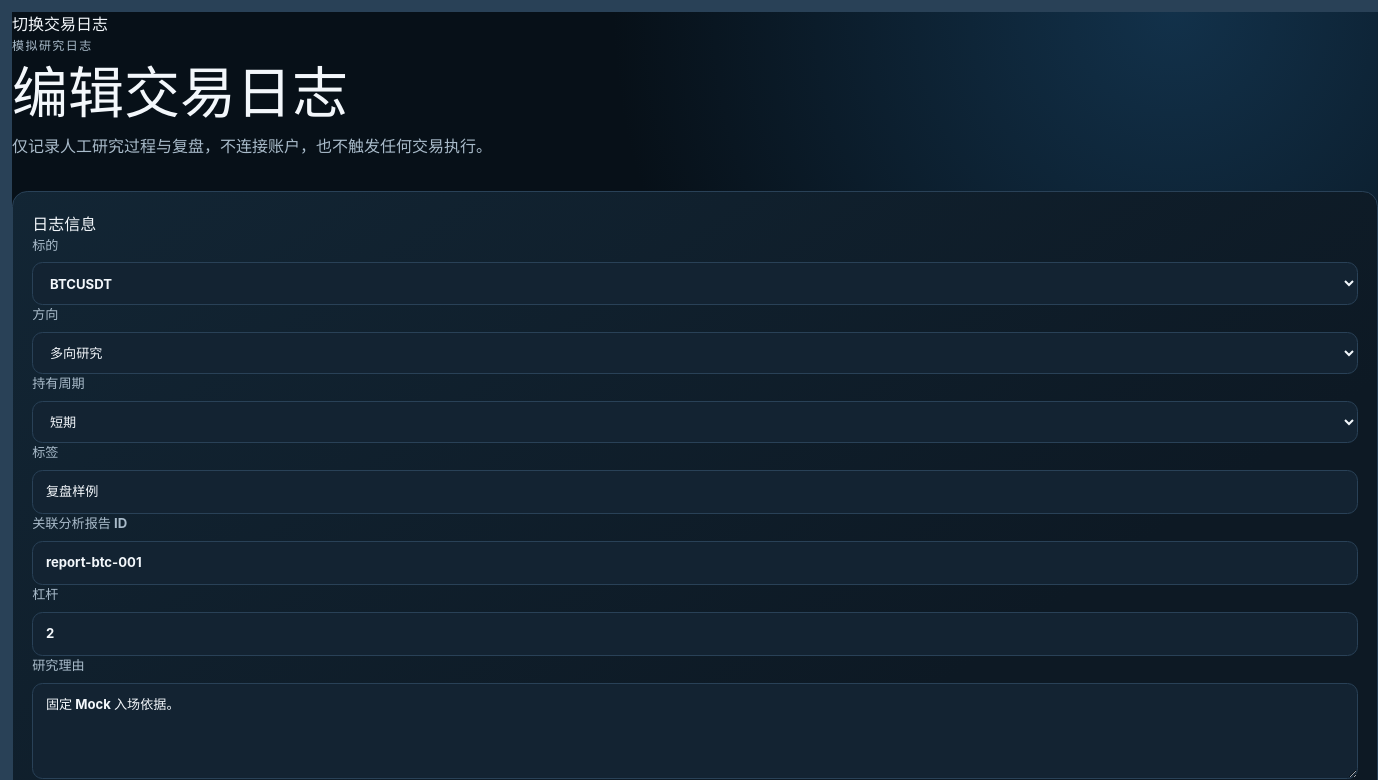
Test case: TradeEditorPage edit journal › uses the routed trade ID in lookup caching and resets the form in place
The width and height of the screenshot is (1378, 780).
Expected: the text box labelled "研究理由" holds "固定 Mock 入场依据。", [32,683,1358,779]
What coordinates should you click on to do the following:
click the link "切换交易日志"
I would click on:
 (60, 24)
Its box is [12,14,108,34].
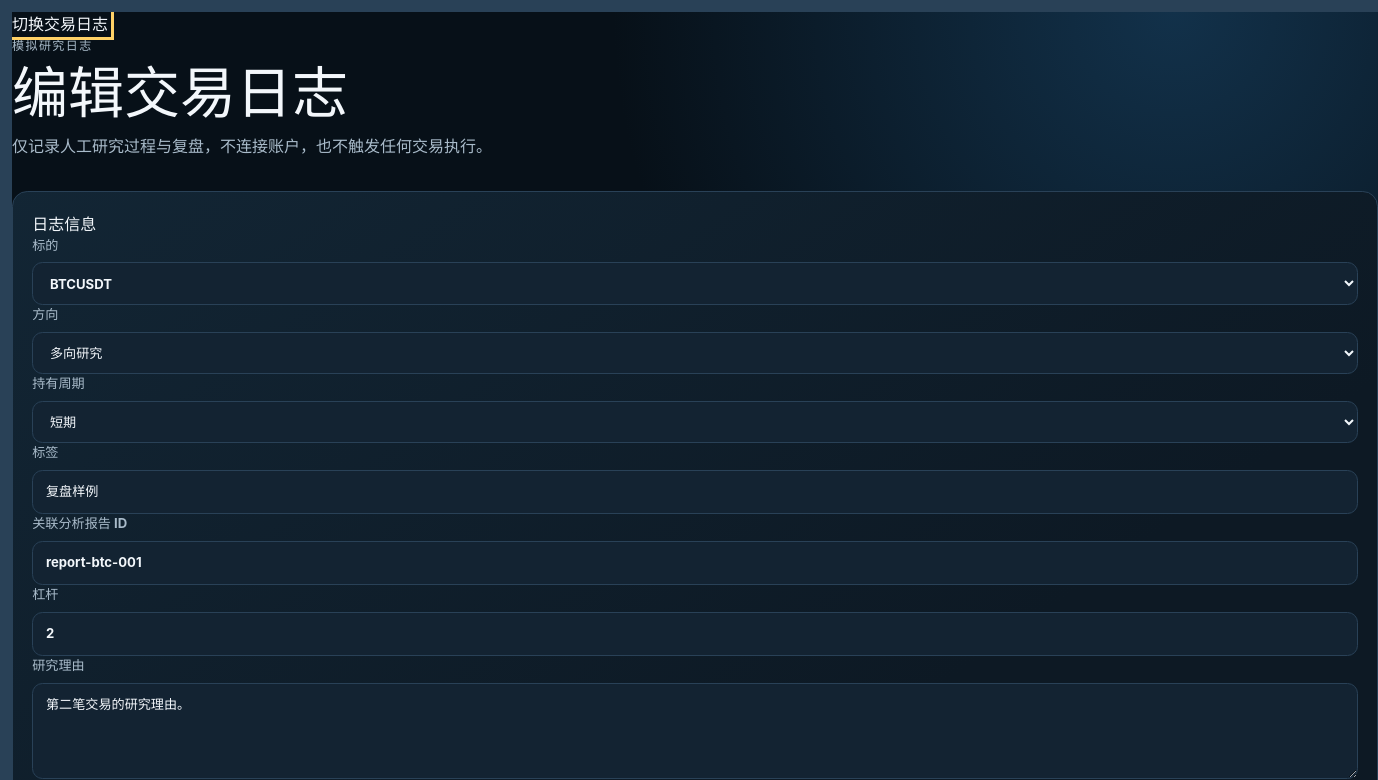
Expected: the text box labelled "研究理由" holds "第二笔交易的研究理由。", [32,683,1358,779]
